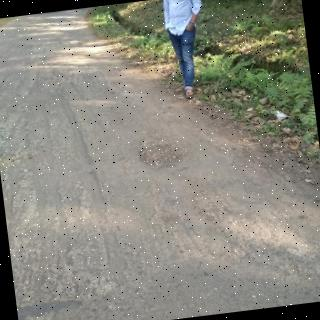pothole: (139, 142, 179, 166)
